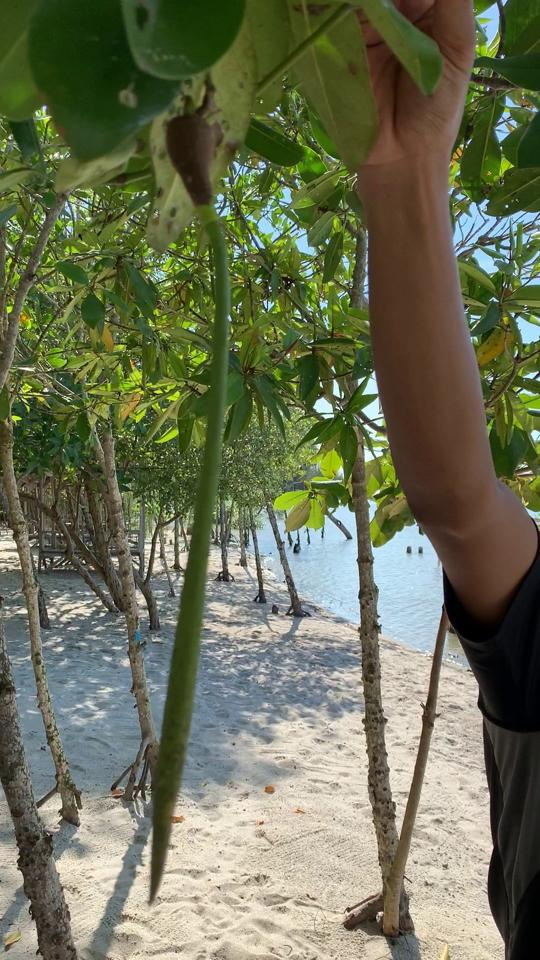setengah matang: (118, 93, 246, 906)
